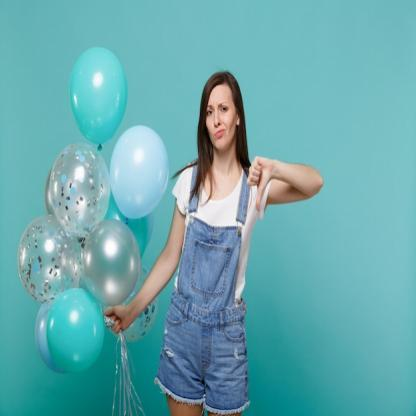thumb_down: (244, 154, 276, 214)
